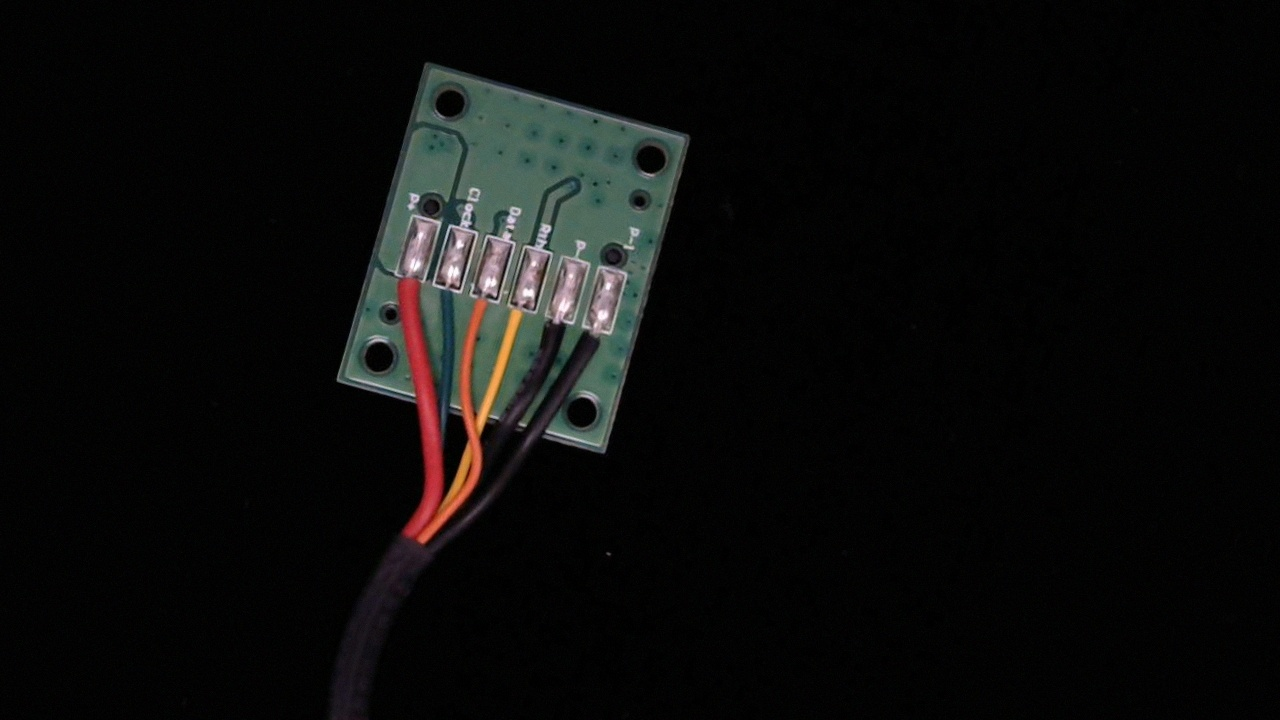Black: (531, 298, 577, 369)
Black1: (570, 309, 617, 375)
Green: (418, 265, 465, 335)
Orange: (456, 275, 501, 345)
Red: (379, 255, 433, 332)
Yellow: (493, 287, 542, 357)
